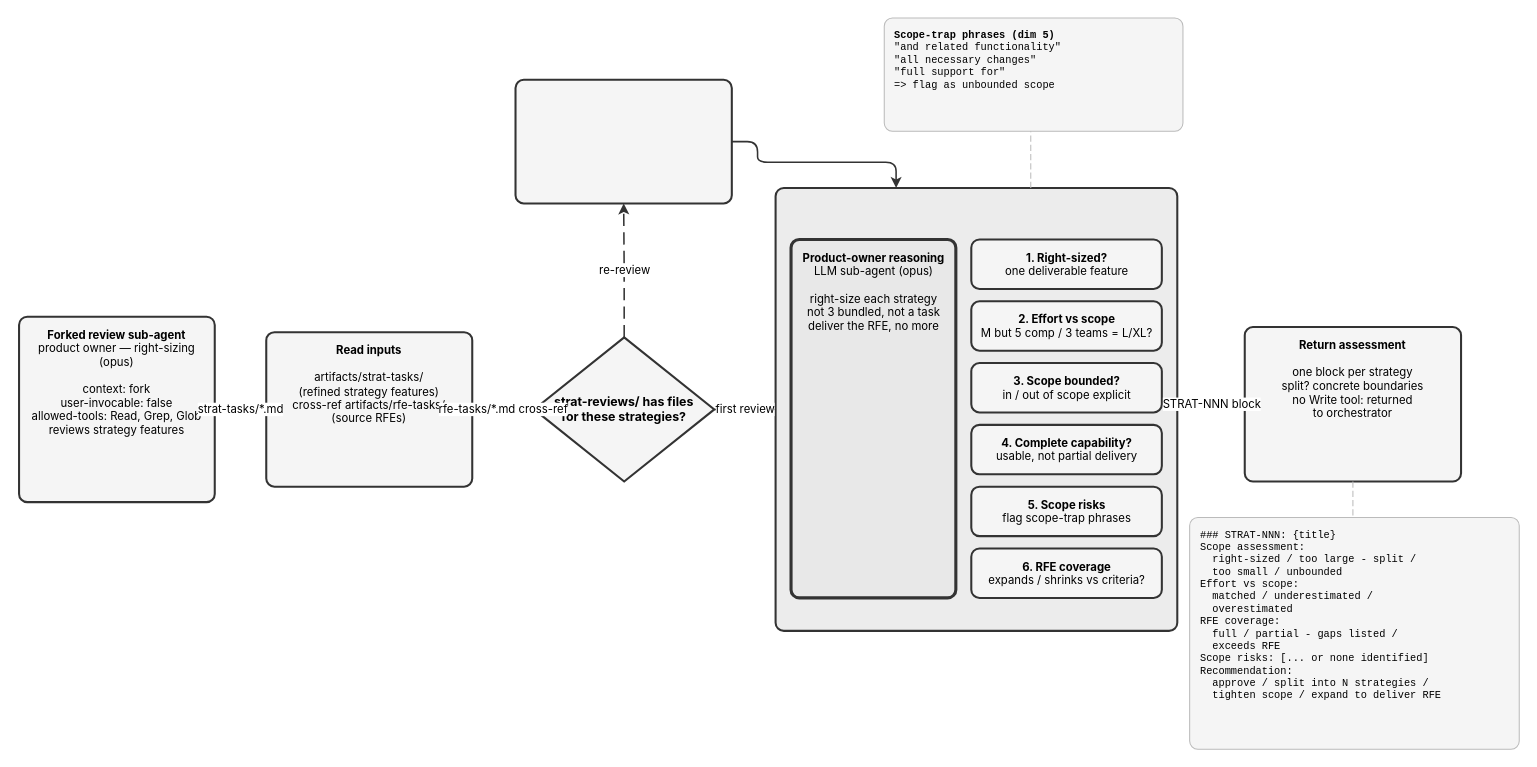
Some shapes in this 1537 by 767 pixel diagram are drawn without their labels. Each missing label, with the box of its shape:
Assess (6 dimensions): (774, 186, 1178, 631)
Re-review delta concerns addressed? concerns remaining? new issues introduced?: (514, 78, 732, 204)
